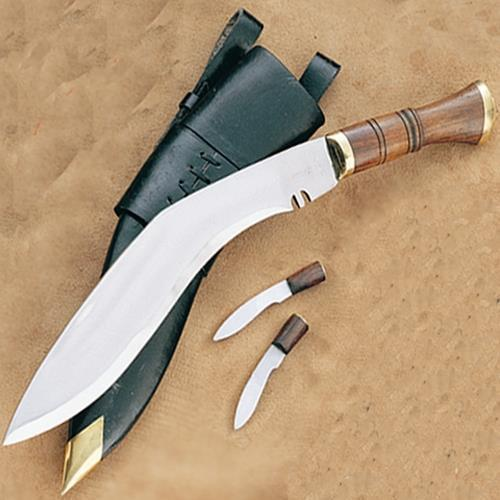faca: (214, 261, 323, 341), (234, 314, 308, 429)
facao: (5, 82, 492, 444)
